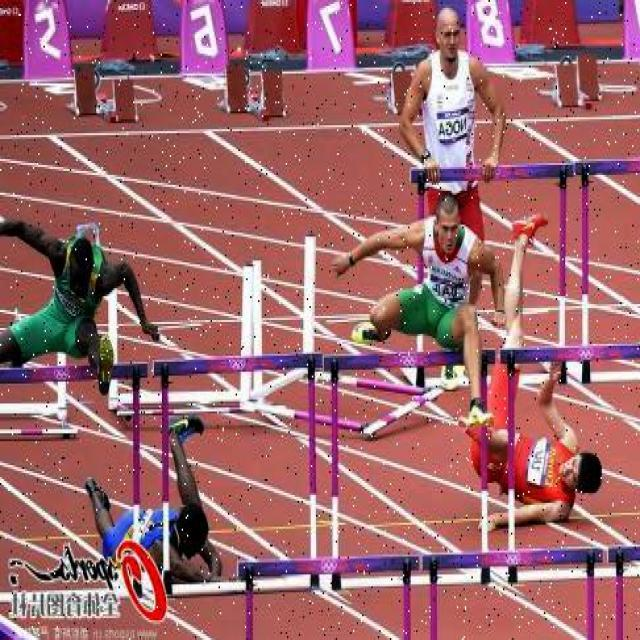fall: (468, 366, 604, 528), (76, 446, 228, 566)
